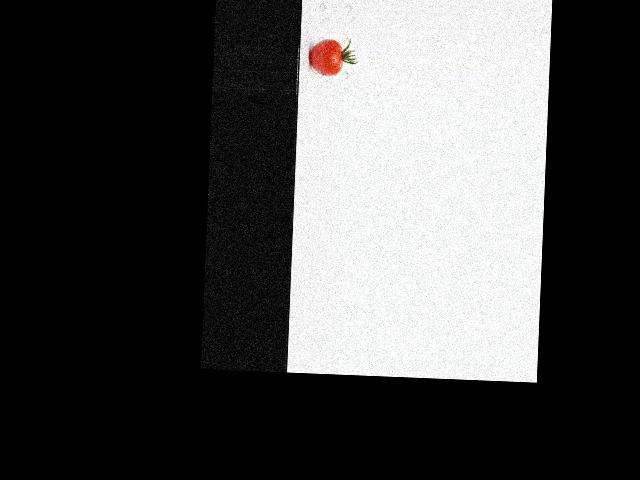tomato: (309, 38, 343, 75)
